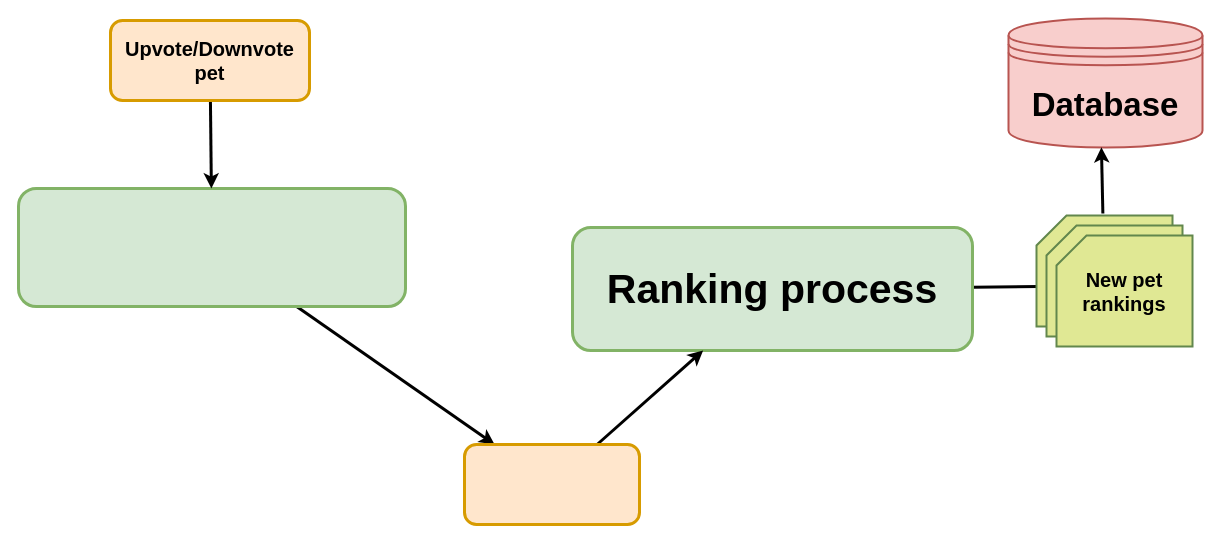
Image size: 1221x543. Some labels were removed from this diagram. The shapes that lost their labels are listed below. From the top down, each one's box as (x1, y1, x2, y2) in pixels, then its label:
(16, 186, 406, 308): Voting process
(462, 442, 640, 526): Updated points for pet
